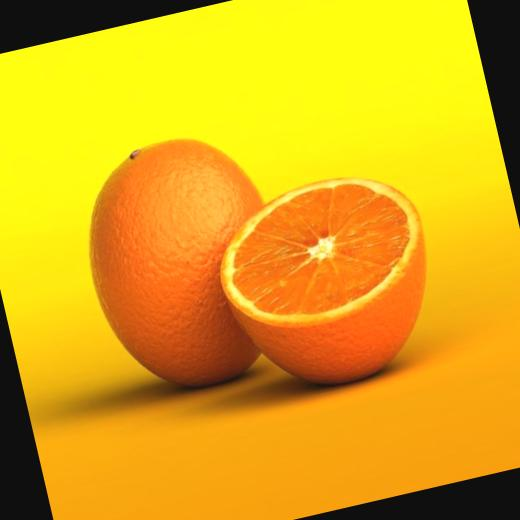Grape: (59, 118, 300, 408), (201, 157, 454, 412)
